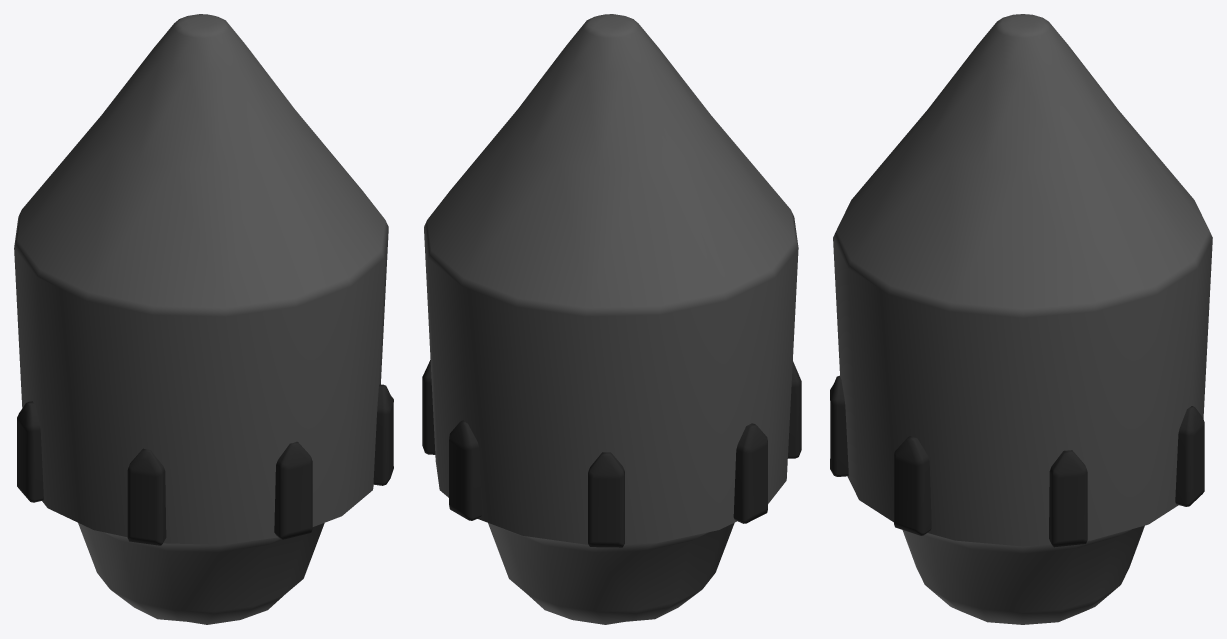
The model's file is Bullet.glb.
3 views of the same model, side by side, from view 1: azimuth 30°, elevation 25°; view 2: azimuth 150°, elevation 25°; view 3: azimuth 270°, elevation 25° (orthographic).
Visible parts, largest first — view 1: Bullet_01; view 2: Bullet_01; view 3: Bullet_01.
Part boxes in pixels (left/top/right/bottom): Bullet_01: left=14, top=14, right=393, bottom=624; Bullet_01: left=422, top=14, right=801, bottom=624; Bullet_01: left=830, top=14, right=1212, bottom=624.
Bounding box in the file's own units: 0.2612 × 0.4376 × 0.2616.
Materials: 1 (1 with a texture image).
